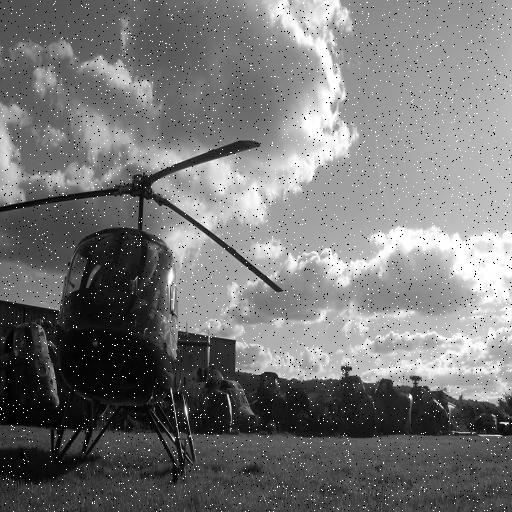helicopter: (1, 138, 294, 494)
